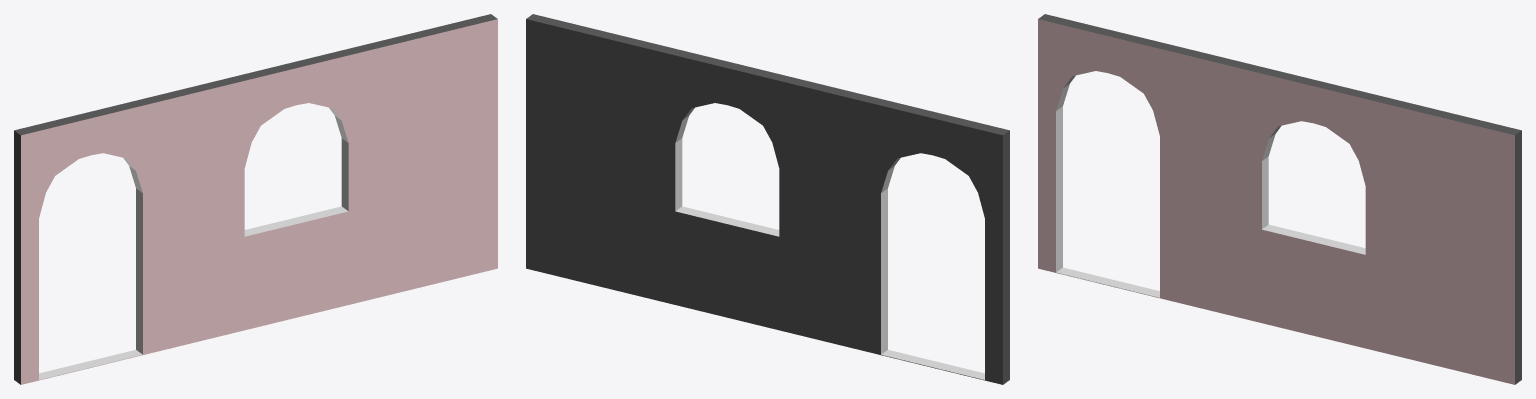
File: Wall_4.fbx
The picture shows the model from 3 angles, left to right: view 1: azimuth 30°, elevation 25°; view 2: azimuth 150°, elevation 25°; view 3: azimuth 330°, elevation 25°; orthographic projection.
Visible parts, largest first — view 1: Wall_4; view 2: Wall_4; view 3: Wall_4.
Boxes of the visible parts, x1,y1,x2,y2 form: Wall_4: (14, 14, 497, 384); Wall_4: (526, 14, 1009, 384); Wall_4: (1038, 14, 1521, 384).
Size of the model in its own units: 400 by 200 by 10.
